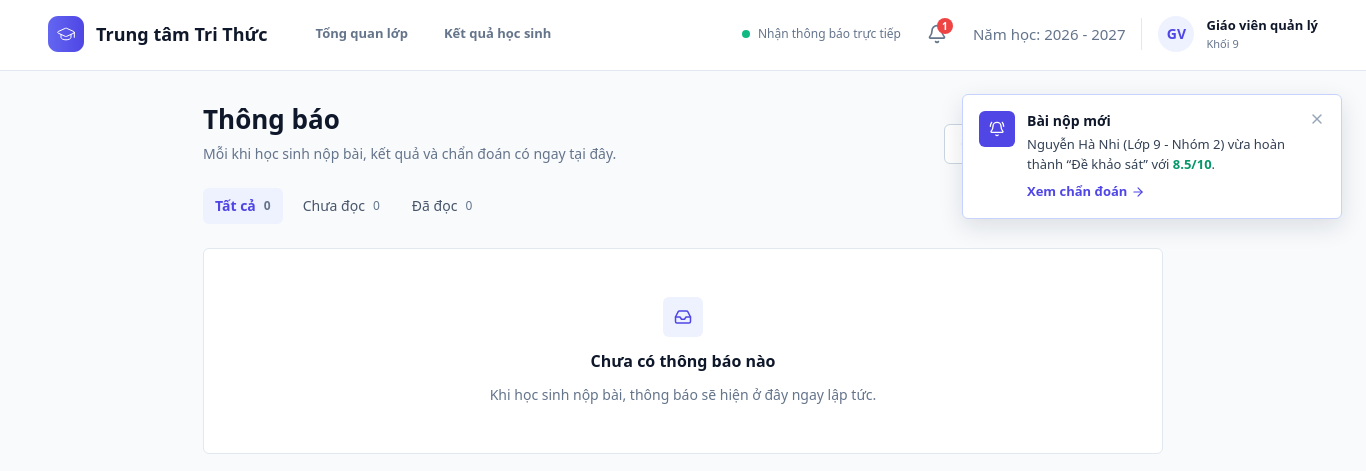
toast tự đóng sau 12 giây, dừng đếm khi rê chuột vào
Expected: the text "Chưa có thông báo nào" is shown, [590, 348, 776, 372]
Hover over the message at (1152, 156), box [962, 94, 1342, 219]
Wait 20000 ms
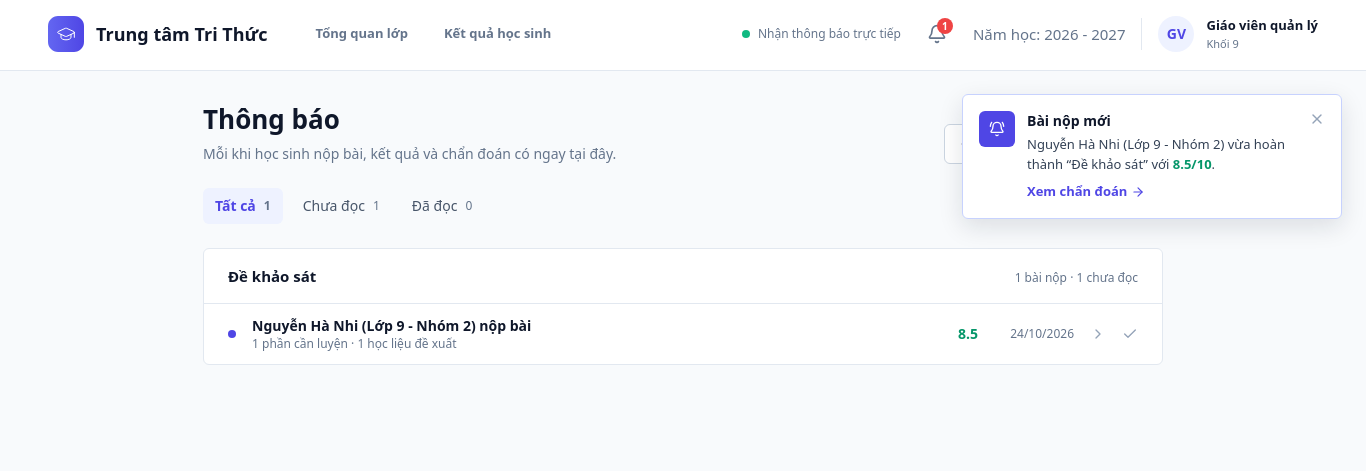
Move the pointer off the message, box [962, 94, 1342, 219]
Wait 12100 ms
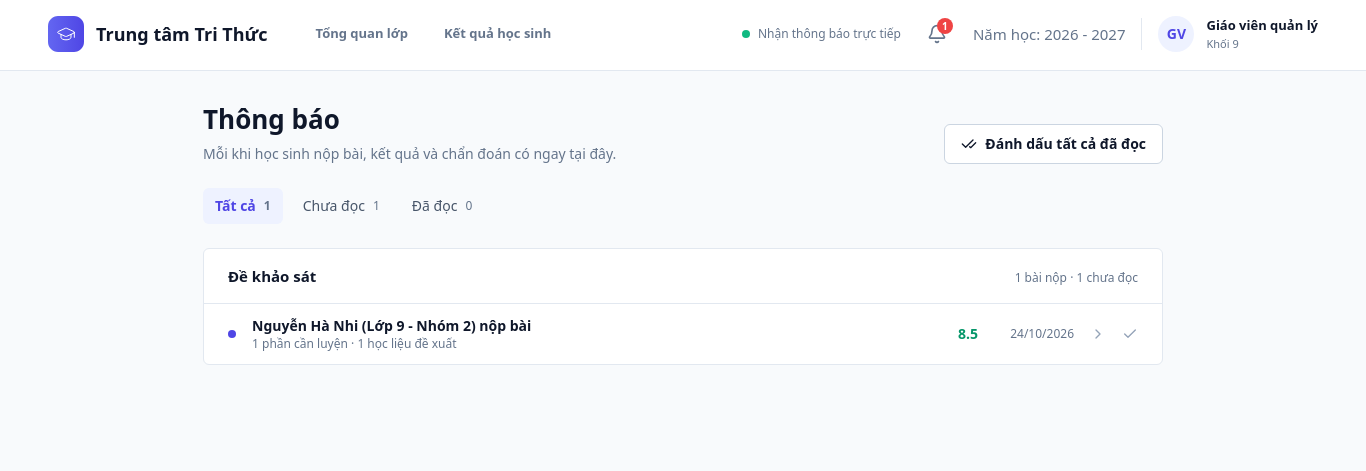
Expected: the message is gone
